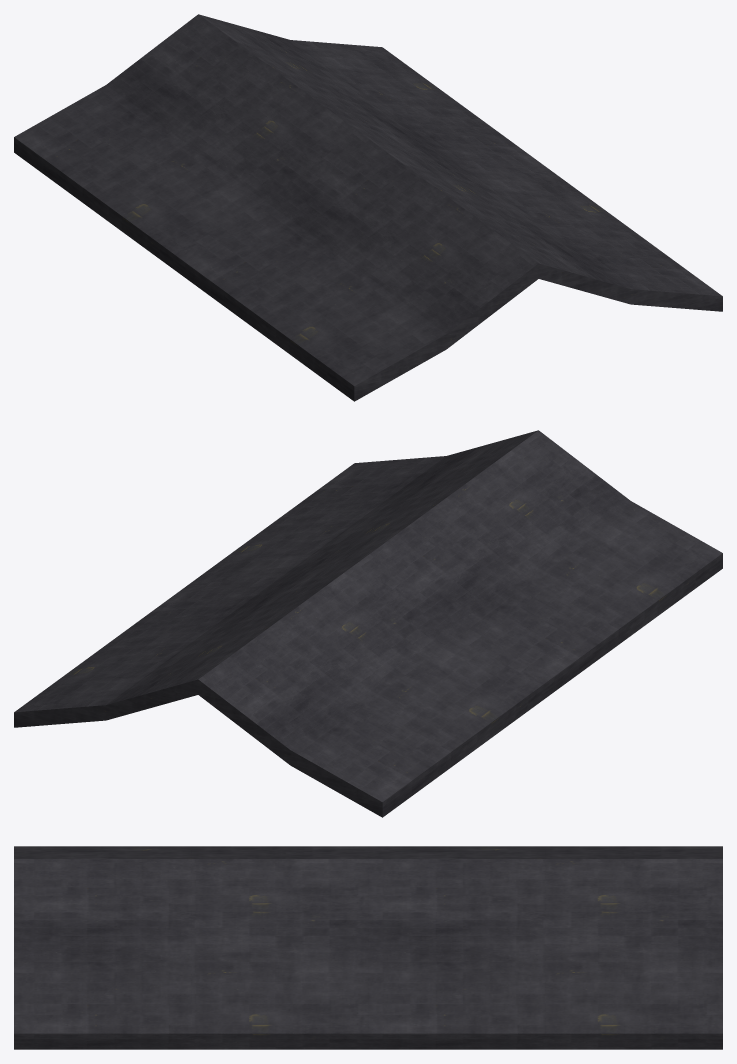
Rendered from house57.obj.
3 views of the same model, one above another, from view 1: azimuth 30°, elevation 25°; view 2: azimuth 150°, elevation 25°; view 3: azimuth 270°, elevation 25° (orthographic). The views are drawn at different scales.
Parts seen in each view (by area): view 1: 立方体.085; view 2: 立方体.085; view 3: 立方体.085.
Part boxes in pixels (x1,y1,x2,y2): 立方体.085: (14, 14, 722, 401); 立方体.085: (14, 430, 722, 817); 立方体.085: (14, 846, 722, 1049).
Size of the model in its own units: 50 by 12.1 by 80.
Materials: 1 (1 with a texture image).
